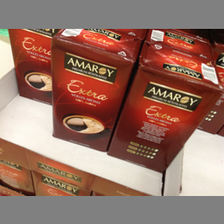coffee: (105, 41, 222, 172), (51, 30, 143, 152)
